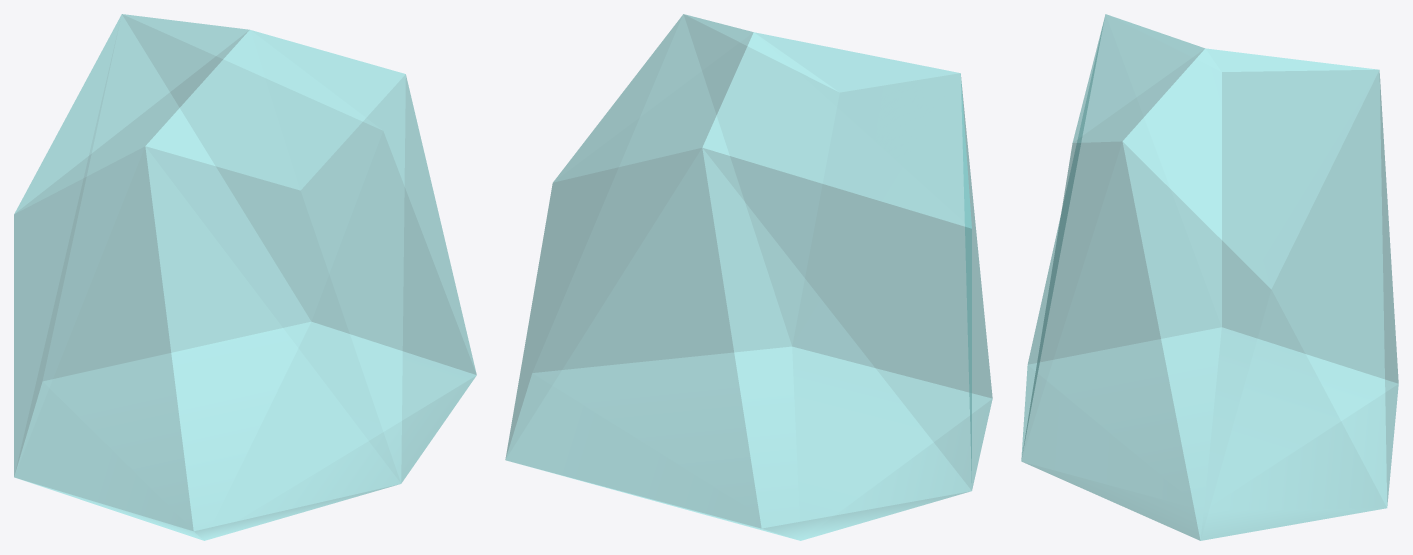
Rendered from Rock_Small_Ice_01.fbx.
The picture shows the model from 3 angles, left to right: view 1: azimuth 30°, elevation 25°; view 2: azimuth 150°, elevation 25°; view 3: azimuth 270°, elevation 25°; orthographic projection. The views are drawn at different scales.
Parts seen in each view (by area): view 1: Rock_Small_Ice_01; view 2: Rock_Small_Ice_01; view 3: Rock_Small_Ice_01.
Part boxes in pixels (left/top/right/bottom): Rock_Small_Ice_01: left=14, top=14, right=476, bottom=540; Rock_Small_Ice_01: left=505, top=14, right=992, bottom=540; Rock_Small_Ice_01: left=1021, top=14, right=1398, bottom=540.
Size of the model in its own units: 592 by 625 by 441.
